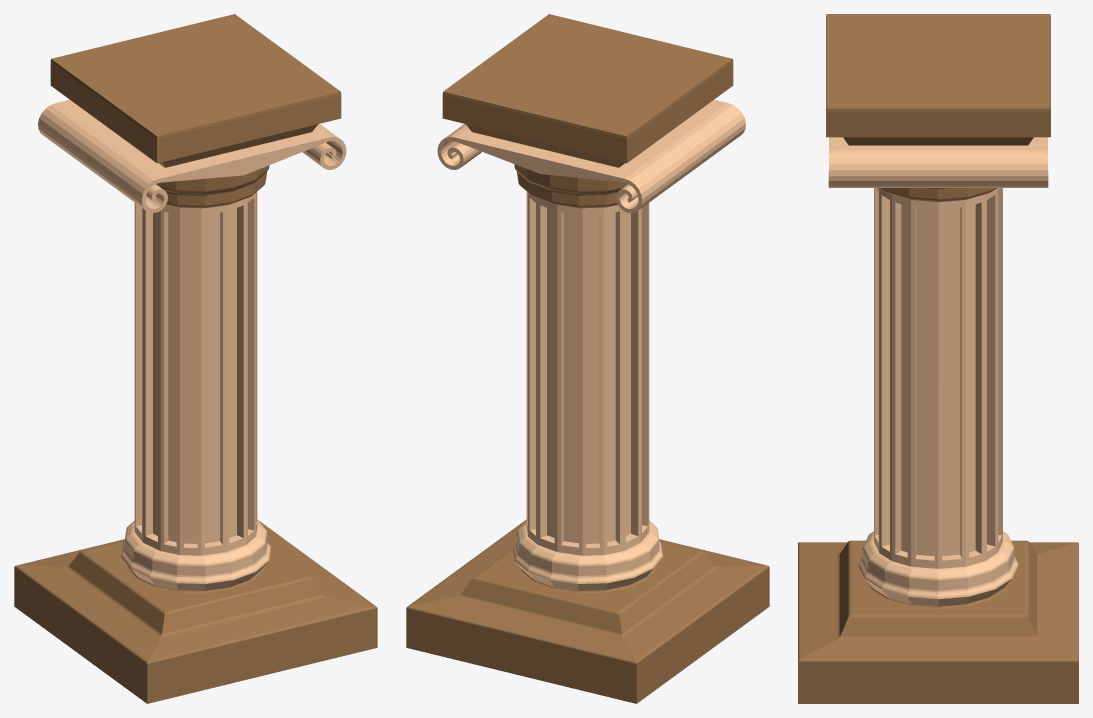
File: Pion.dae
3 renders of one model, left to right at view 1: azimuth 30°, elevation 25°; view 2: azimuth 150°, elevation 25°; view 3: azimuth 270°, elevation 25°, orthographic. The views are drawn at different scales.
Parts seen in each view (by area): view 1: Cube, Cylinder; view 2: Cube, Cylinder; view 3: Cube, Cylinder.
Part boxes in pixels (left/top/right/bottom): Cube: left=14, top=14, right=377, bottom=703; Cylinder: left=38, top=99, right=346, bottom=212; Cube: left=406, top=14, right=769, bottom=703; Cylinder: left=437, top=99, right=745, bottom=212; Cube: left=798, top=14, right=1078, bottom=703; Cylinder: left=828, top=137, right=1048, bottom=187.
Bounding box in the file's own units: 1.78 × 1.78 × 4.07.
